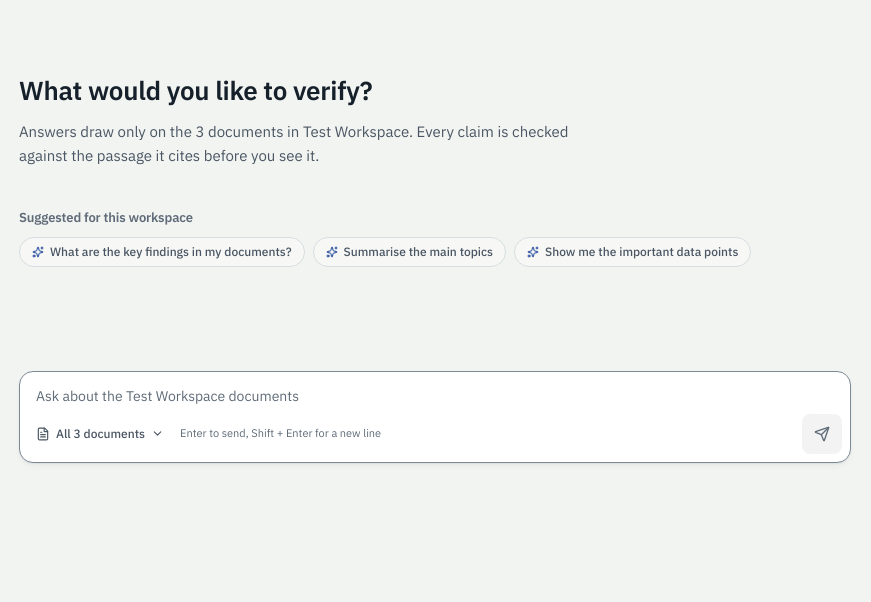
Test: ChatPage › shows the audit trail live while streaming, with progress-frame counts
This screenshot has width=871, height=602.
In the text box named "Ask a question about this workspace": (435, 391) top-left (20, 372), bottom-right (850, 410), type "Summarise revenue"
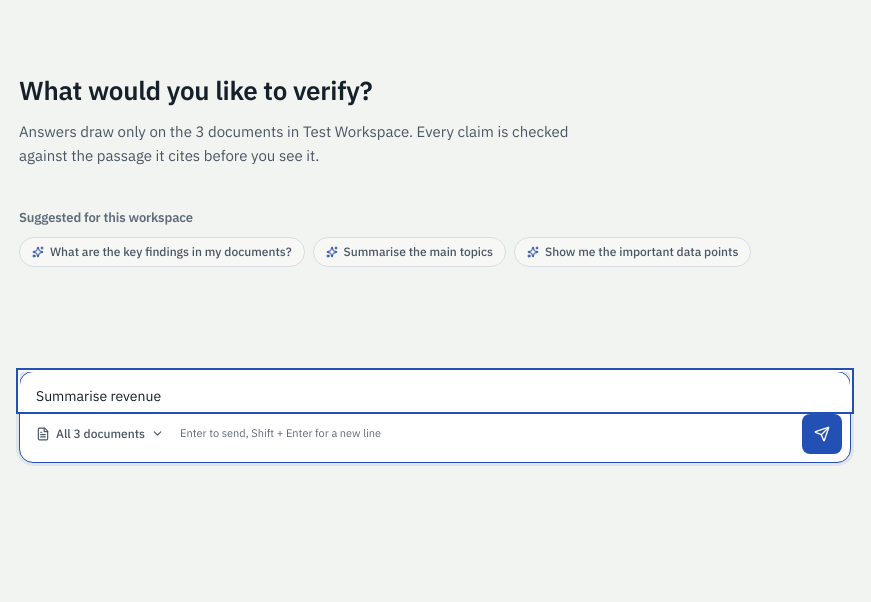
Press Enter
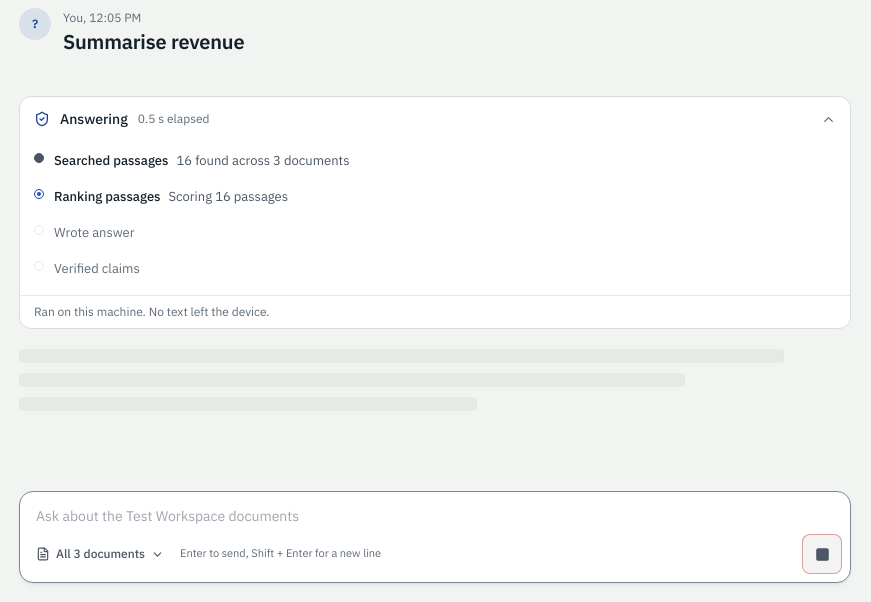
Result: the text "Answering" is shown at top-left (60, 109), bottom-right (128, 129)
Result: the text "16 found" is shown at top-left (176, 152), bottom-right (350, 169)
